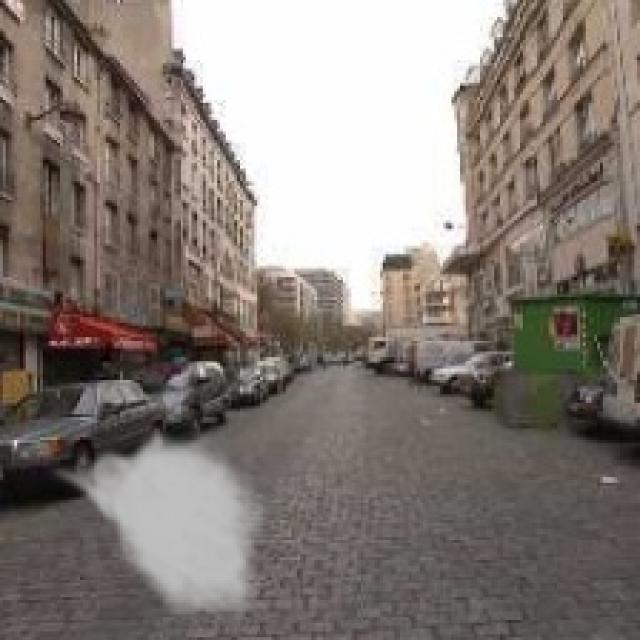smoke: (45, 426, 268, 628)
